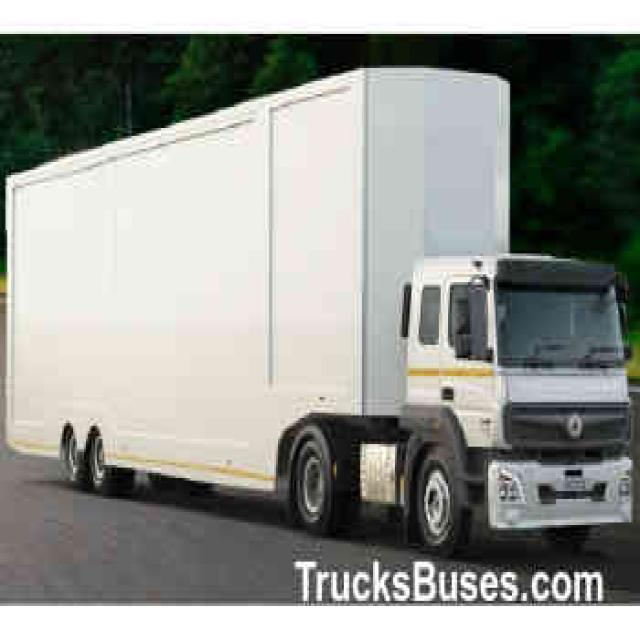truck: (7, 68, 633, 549)
